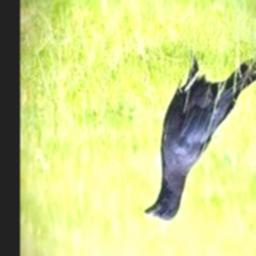Crow: (144, 44, 256, 221)
